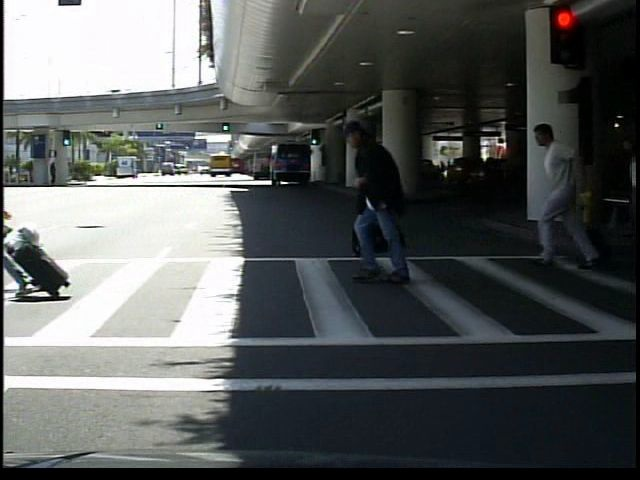person: (335, 115, 426, 285), (534, 113, 599, 271)
